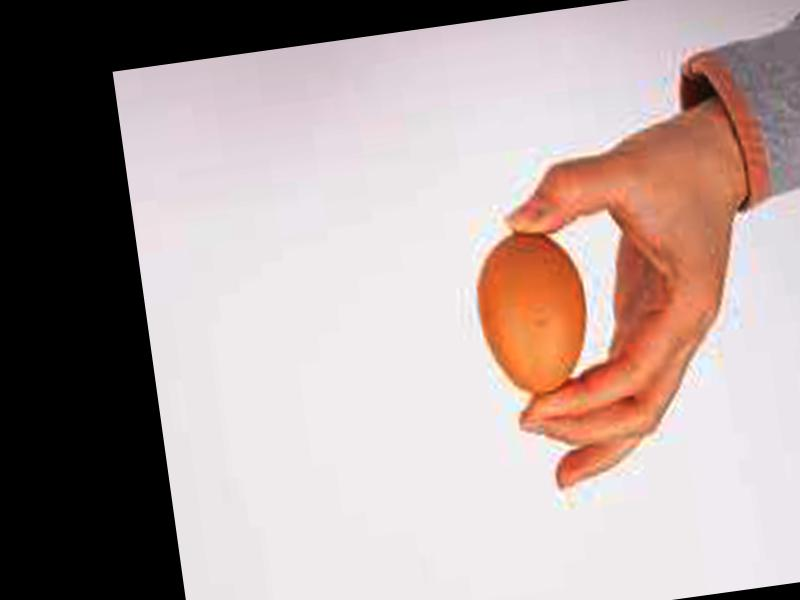Eggs: (470, 230, 594, 404)
